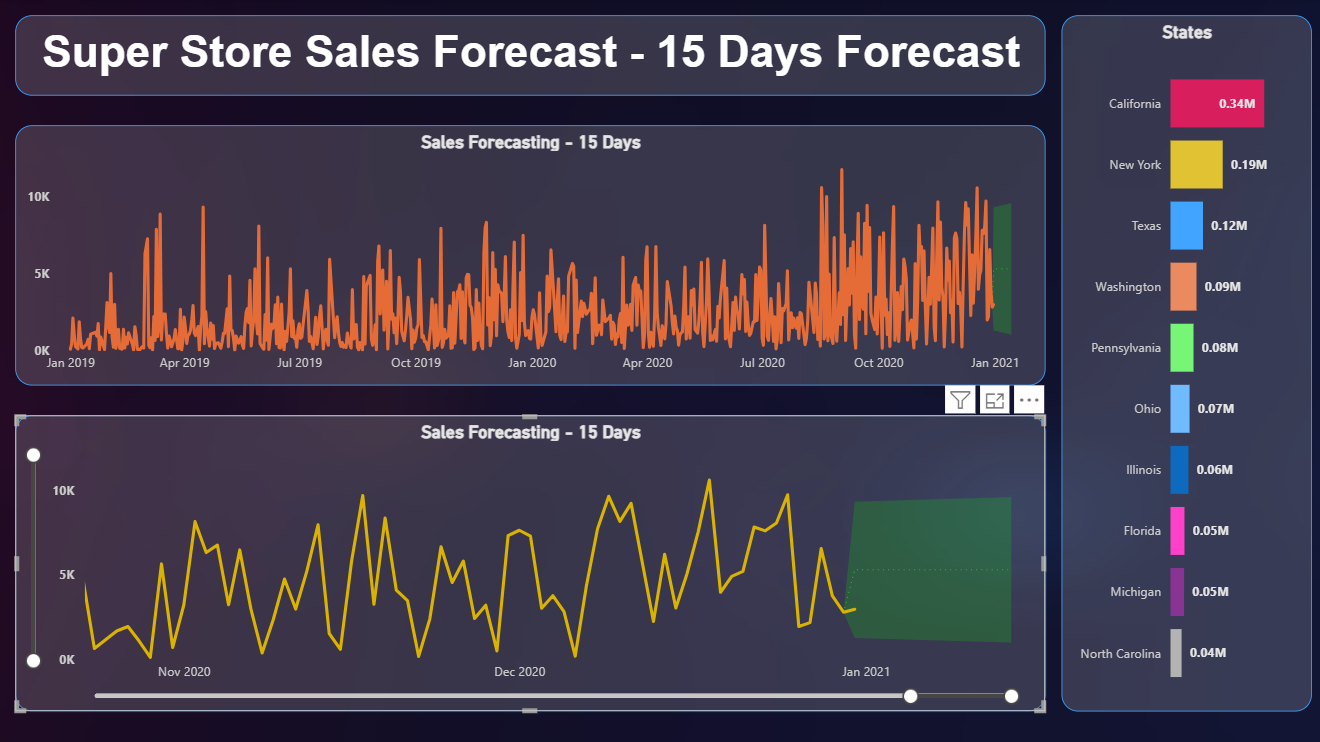

The page's visual inventory and layout, read from the dashboard file:
{"tool":"powerbi","page":{"name":"Forecasting","canvas":[1280,720],"ordinal":1},"visuals":[{"type":"lineChart","title":"Sales Forecasting - 15 Days","fields":{"Y":["Sum(Sheet1.Sales)"],"Category":["Sheet1.Order Date"]},"box":[15.7,121.9,994.1,250.9],"z":0},{"type":"lineChart","title":"Sales Forecasting - 15 Days","fields":{"Y":["Sum(Sheet1.Sales)"],"Category":["Sheet1.Order Date"]},"box":[15.7,393.3,994.1,285.9],"z":1000},{"type":"barChart","title":"States","fields":{"Category":["Sheet1.State"],"Y":["Sum(Sheet1.Sales)"]},"box":[1025.5,15.7,241.3,672],"z":2000},{"type":"textbox","box":[15.7,15.7,994.1,77.2],"z":3000}]}

Visuals, with their boxes in screenshot pixels (x1, y1, x2, y2), scaled from the page's 1280x720 canvas onto the 1320x742 screenshot:
"Sales Forecasting - 15 Days" lineChart: <box>16,126,1041,384</box>
"Sales Forecasting - 15 Days" lineChart: <box>16,405,1041,700</box>
"States" barChart: <box>1058,16,1306,709</box>
textbox: <box>16,16,1041,96</box>
